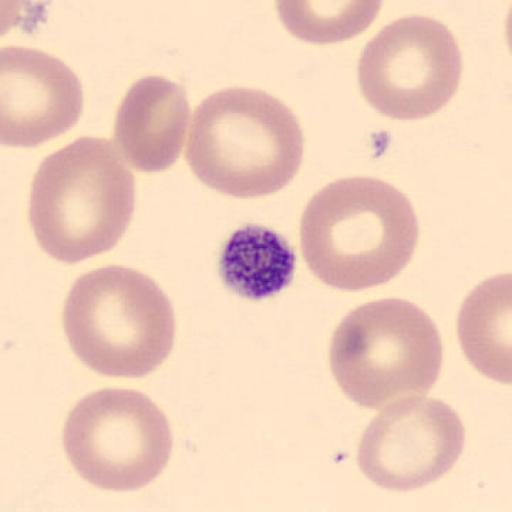Platelet: (214, 220, 299, 303)
RBC: (26, 134, 138, 268), (298, 174, 422, 294), (60, 262, 178, 382), (186, 84, 306, 201), (327, 296, 445, 412), (60, 384, 175, 494), (356, 11, 464, 123), (354, 394, 467, 494), (3, 44, 85, 150), (112, 72, 191, 175), (455, 270, 512, 386), (274, 0, 384, 45), (1, 0, 56, 39), (503, 0, 512, 69)
